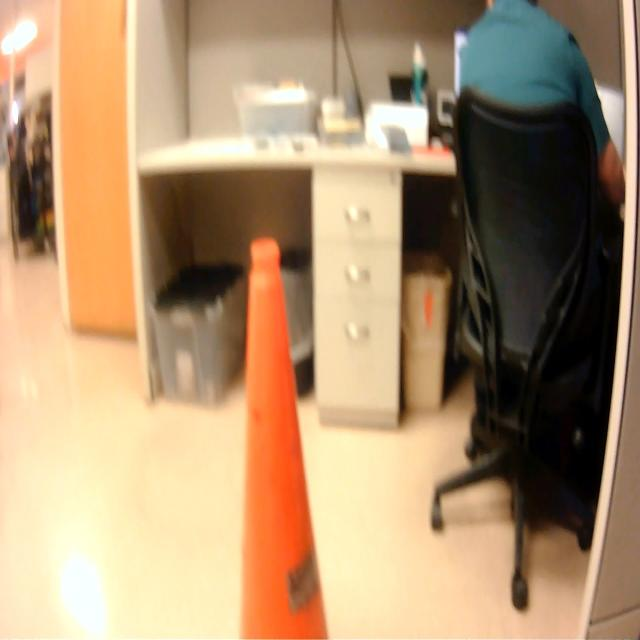traffic cone: (228, 229, 336, 640)
